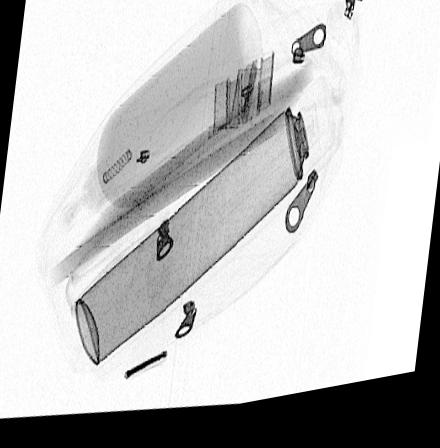Sprayer: (72, 86, 334, 372)
